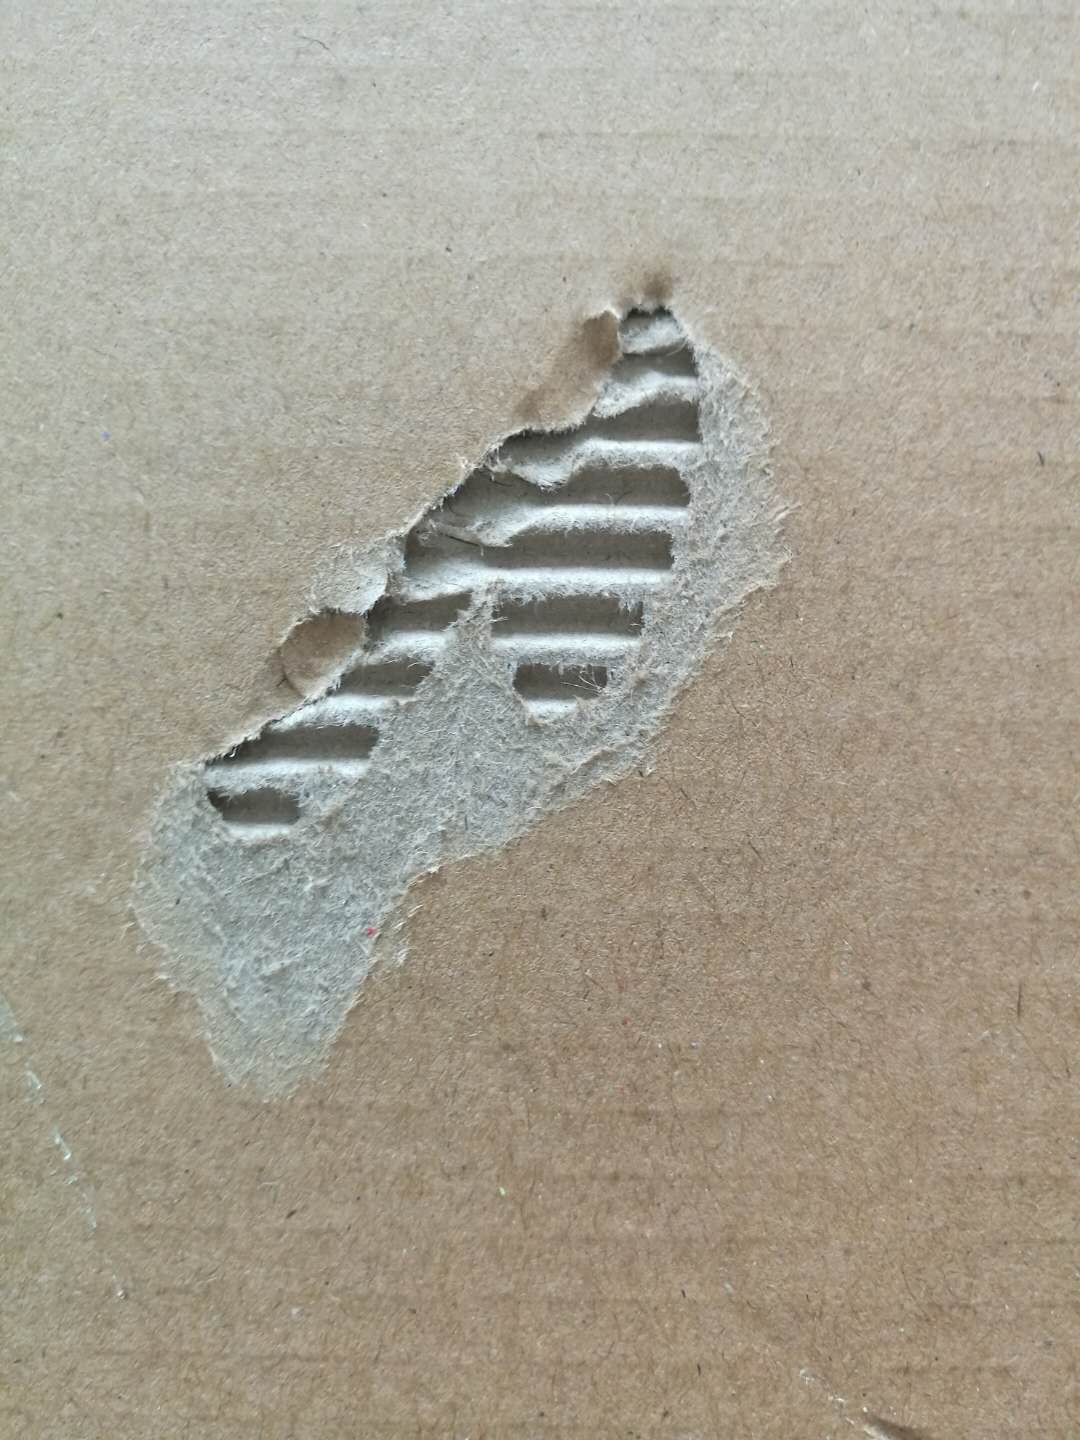defect: (91, 235, 854, 1142), (785, 1364, 973, 1440)
